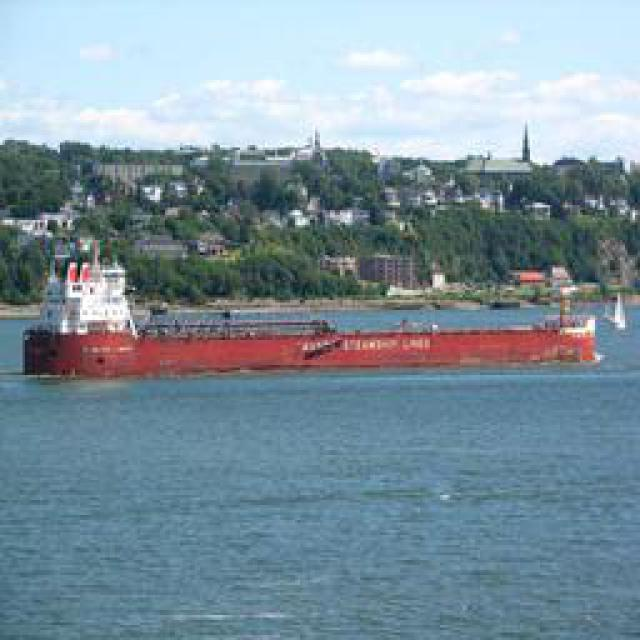Ship: (11, 311, 601, 381)
